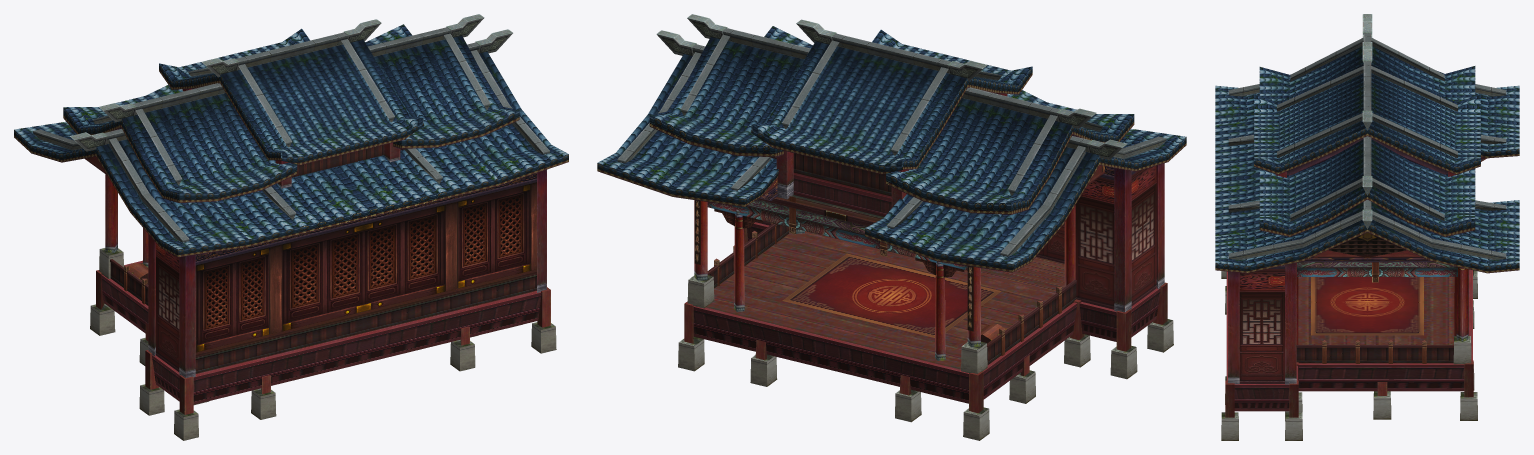
File: Maincity06_Building_xt_LOD1.FBX
3 views of the same model, side by side, from view 1: azimuth 30°, elevation 25°; view 2: azimuth 150°, elevation 25°; view 3: azimuth 270°, elevation 25° (orthographic). The views are drawn at different scales.
Visible parts, largest first — view 1: Maincity06_Building_xt_LOD1; view 2: Maincity06_Building_xt_LOD1; view 3: Maincity06_Building_xt_LOD1.
Boxes of the visible parts, x1,y1,x2,y2 form: Maincity06_Building_xt_LOD1: (14, 14, 568, 440); Maincity06_Building_xt_LOD1: (597, 14, 1186, 440); Maincity06_Building_xt_LOD1: (1215, 14, 1519, 440).
Bounding box in the file's own units: 1952 × 1256 × 1263.
